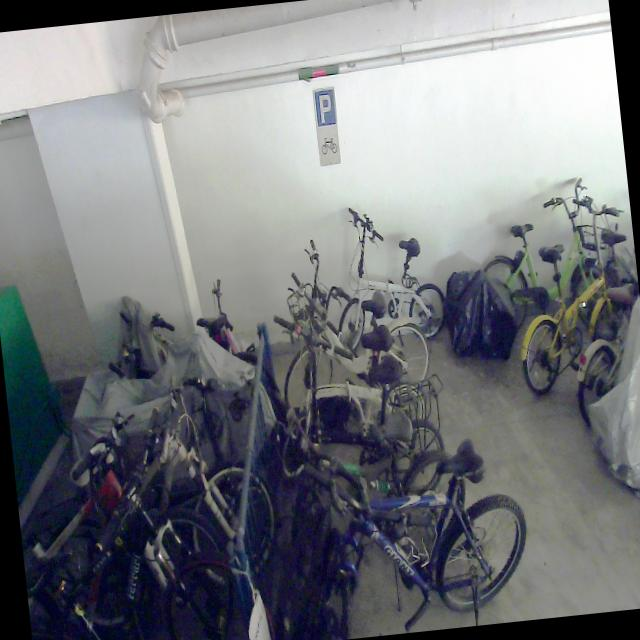bike: (7, 365, 283, 640), (254, 409, 536, 640), (8, 395, 239, 640), (260, 375, 476, 604), (269, 227, 435, 414), (503, 190, 640, 396), (269, 292, 437, 458), (471, 175, 610, 342), (324, 198, 450, 359)
